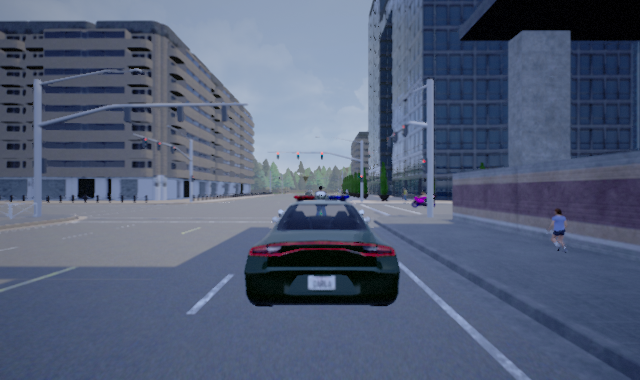bike: (314, 185, 328, 227)
motobike: (412, 190, 436, 209)
pedestrian: (546, 208, 568, 253), (401, 187, 408, 202)
vehicle: (243, 194, 399, 306)
